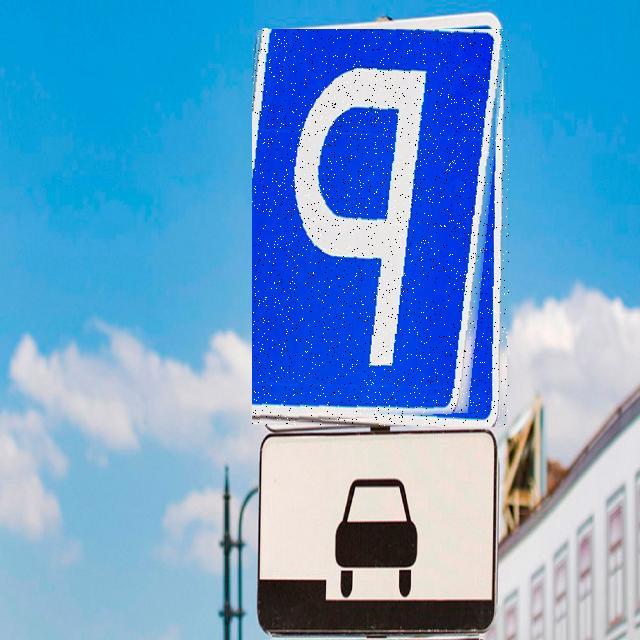parking: (252, 29, 509, 426)
